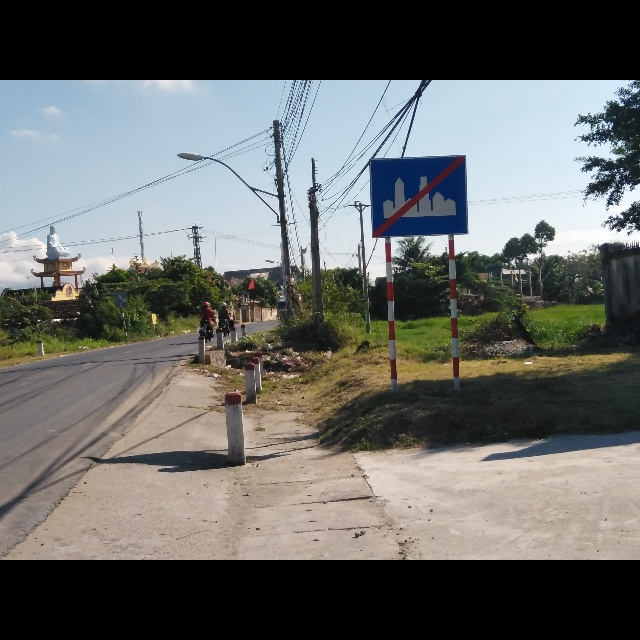Hết khu đông dân cư: (368, 156, 467, 236)
